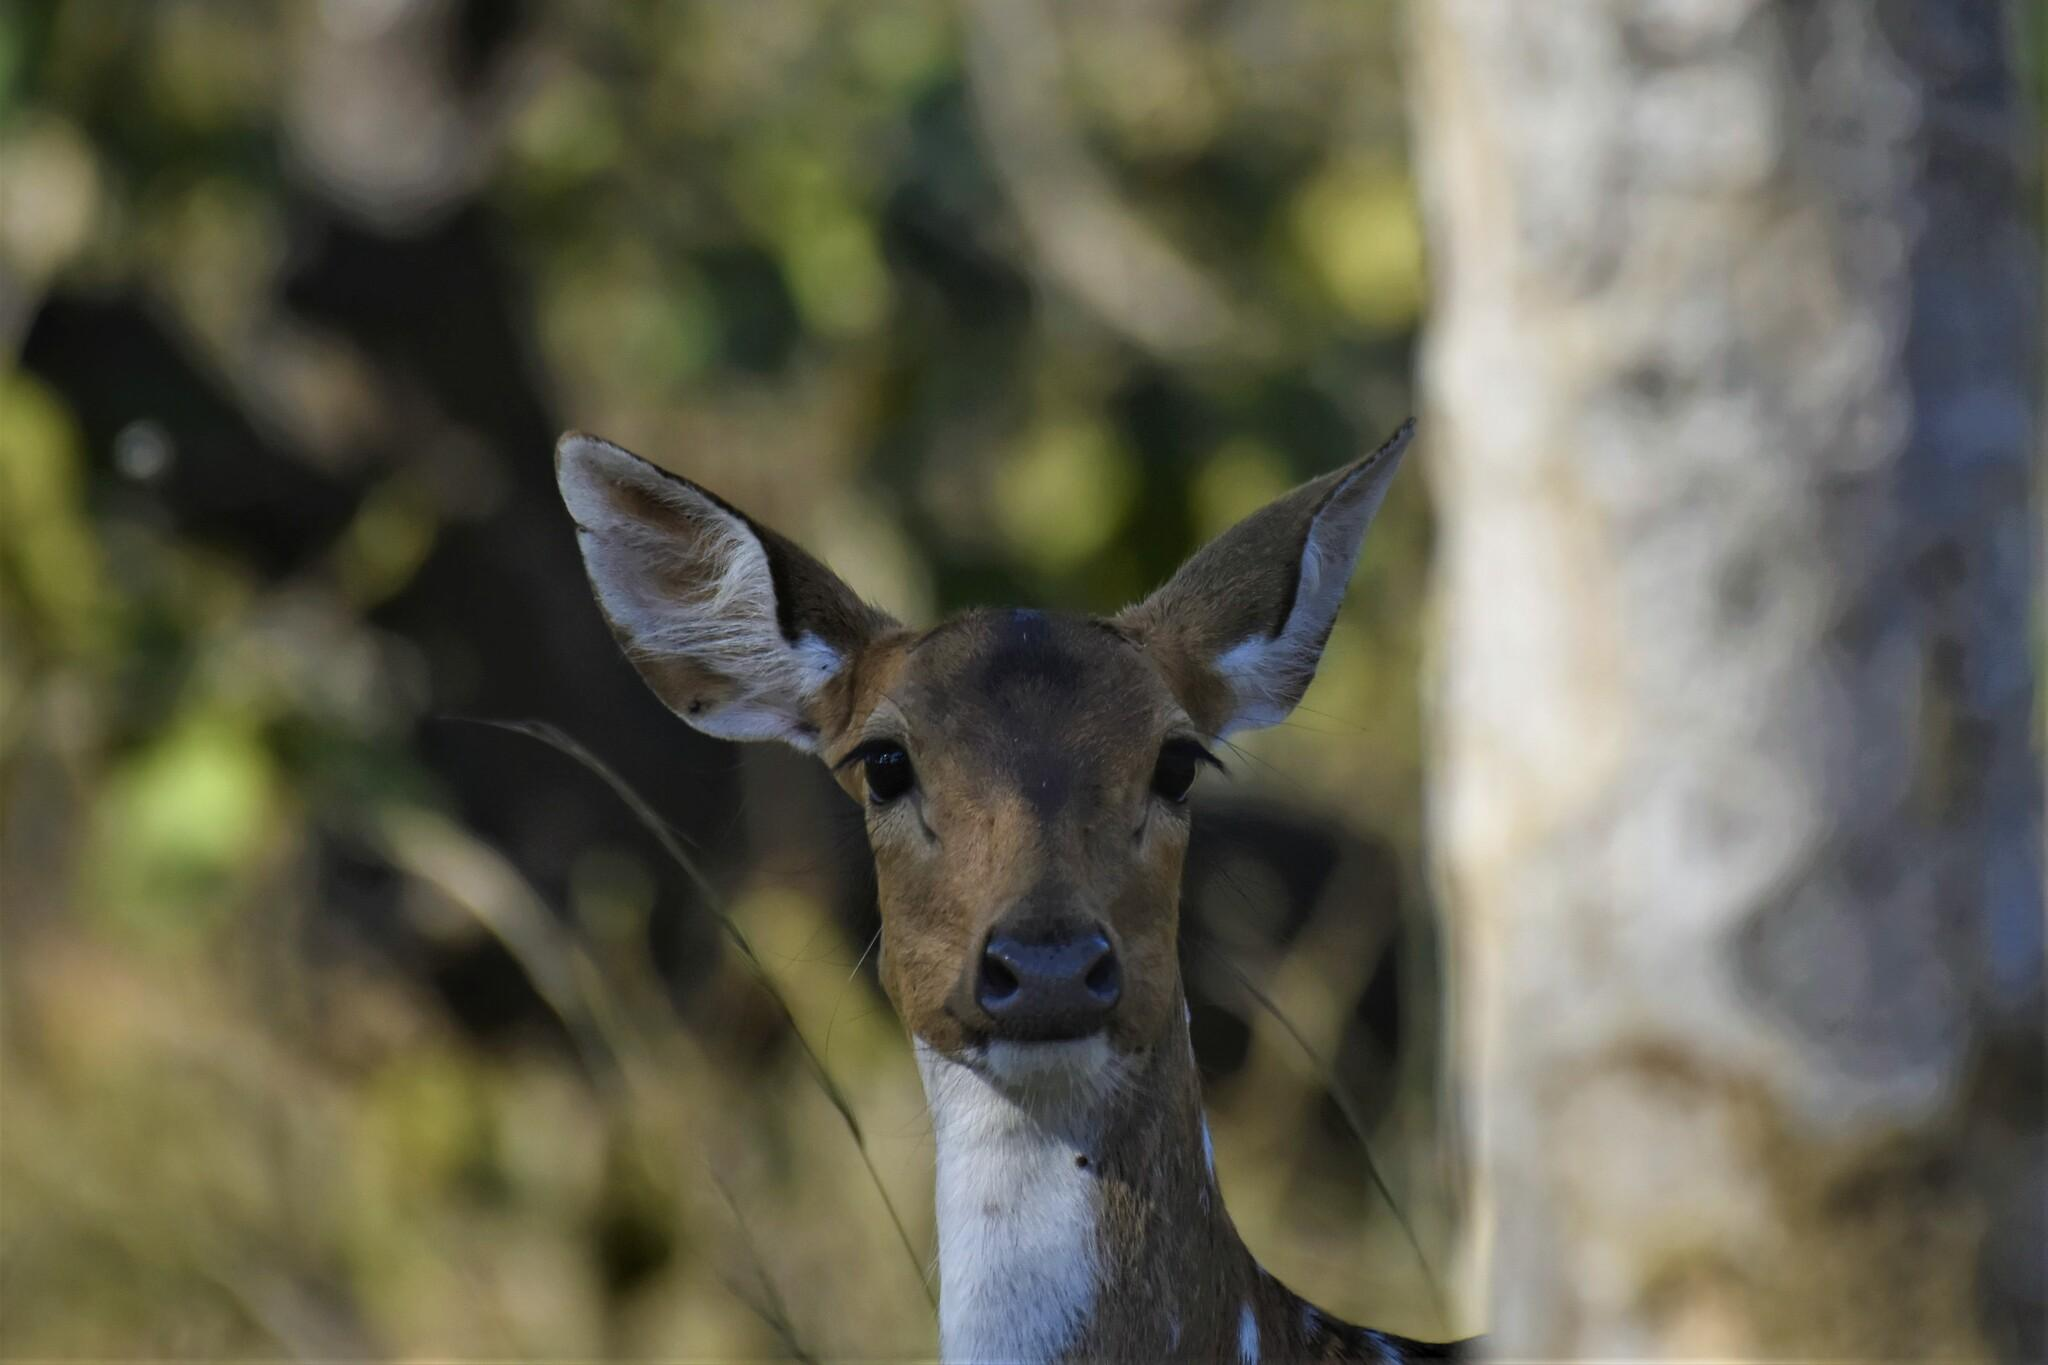Deer: (557, 420, 1453, 1363)
